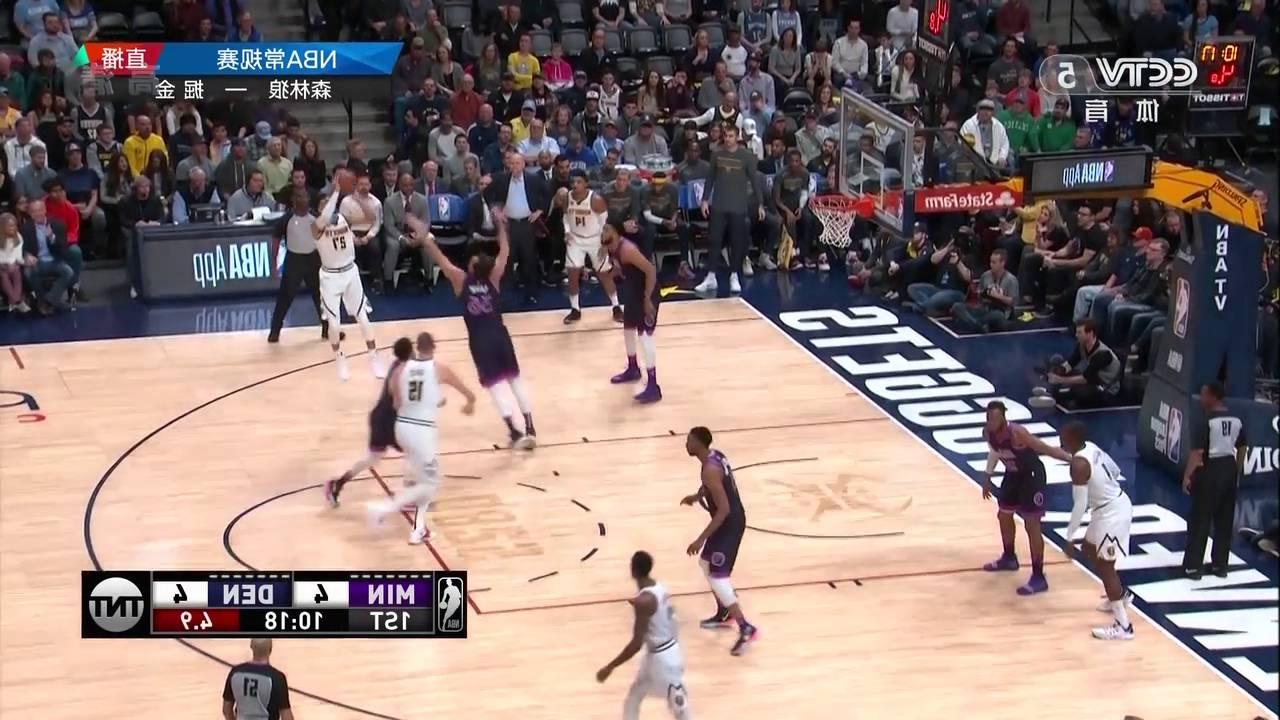basketball: (334, 169, 358, 194)
